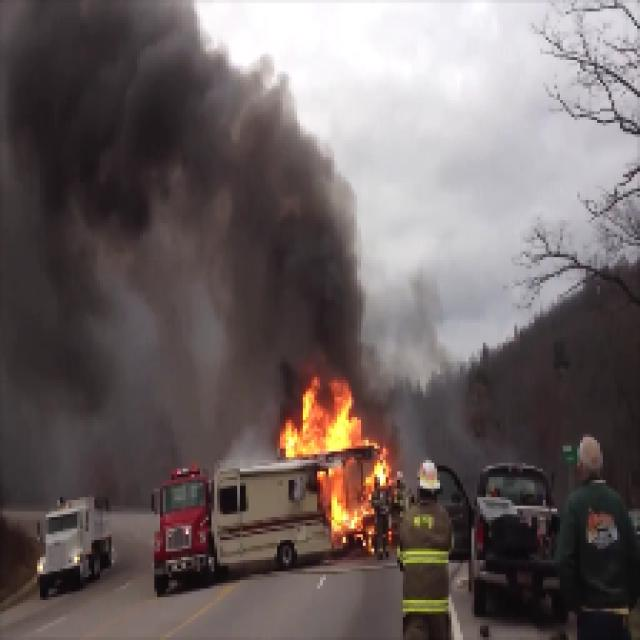smoke: (17, 11, 191, 372), (205, 85, 348, 347)
